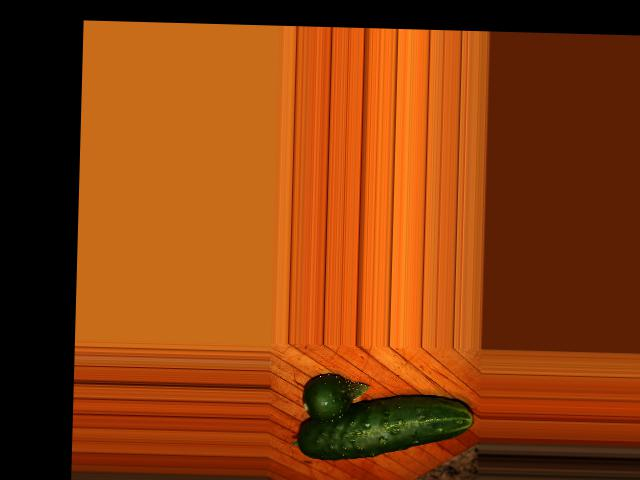cucumber: (296, 391, 474, 463)
